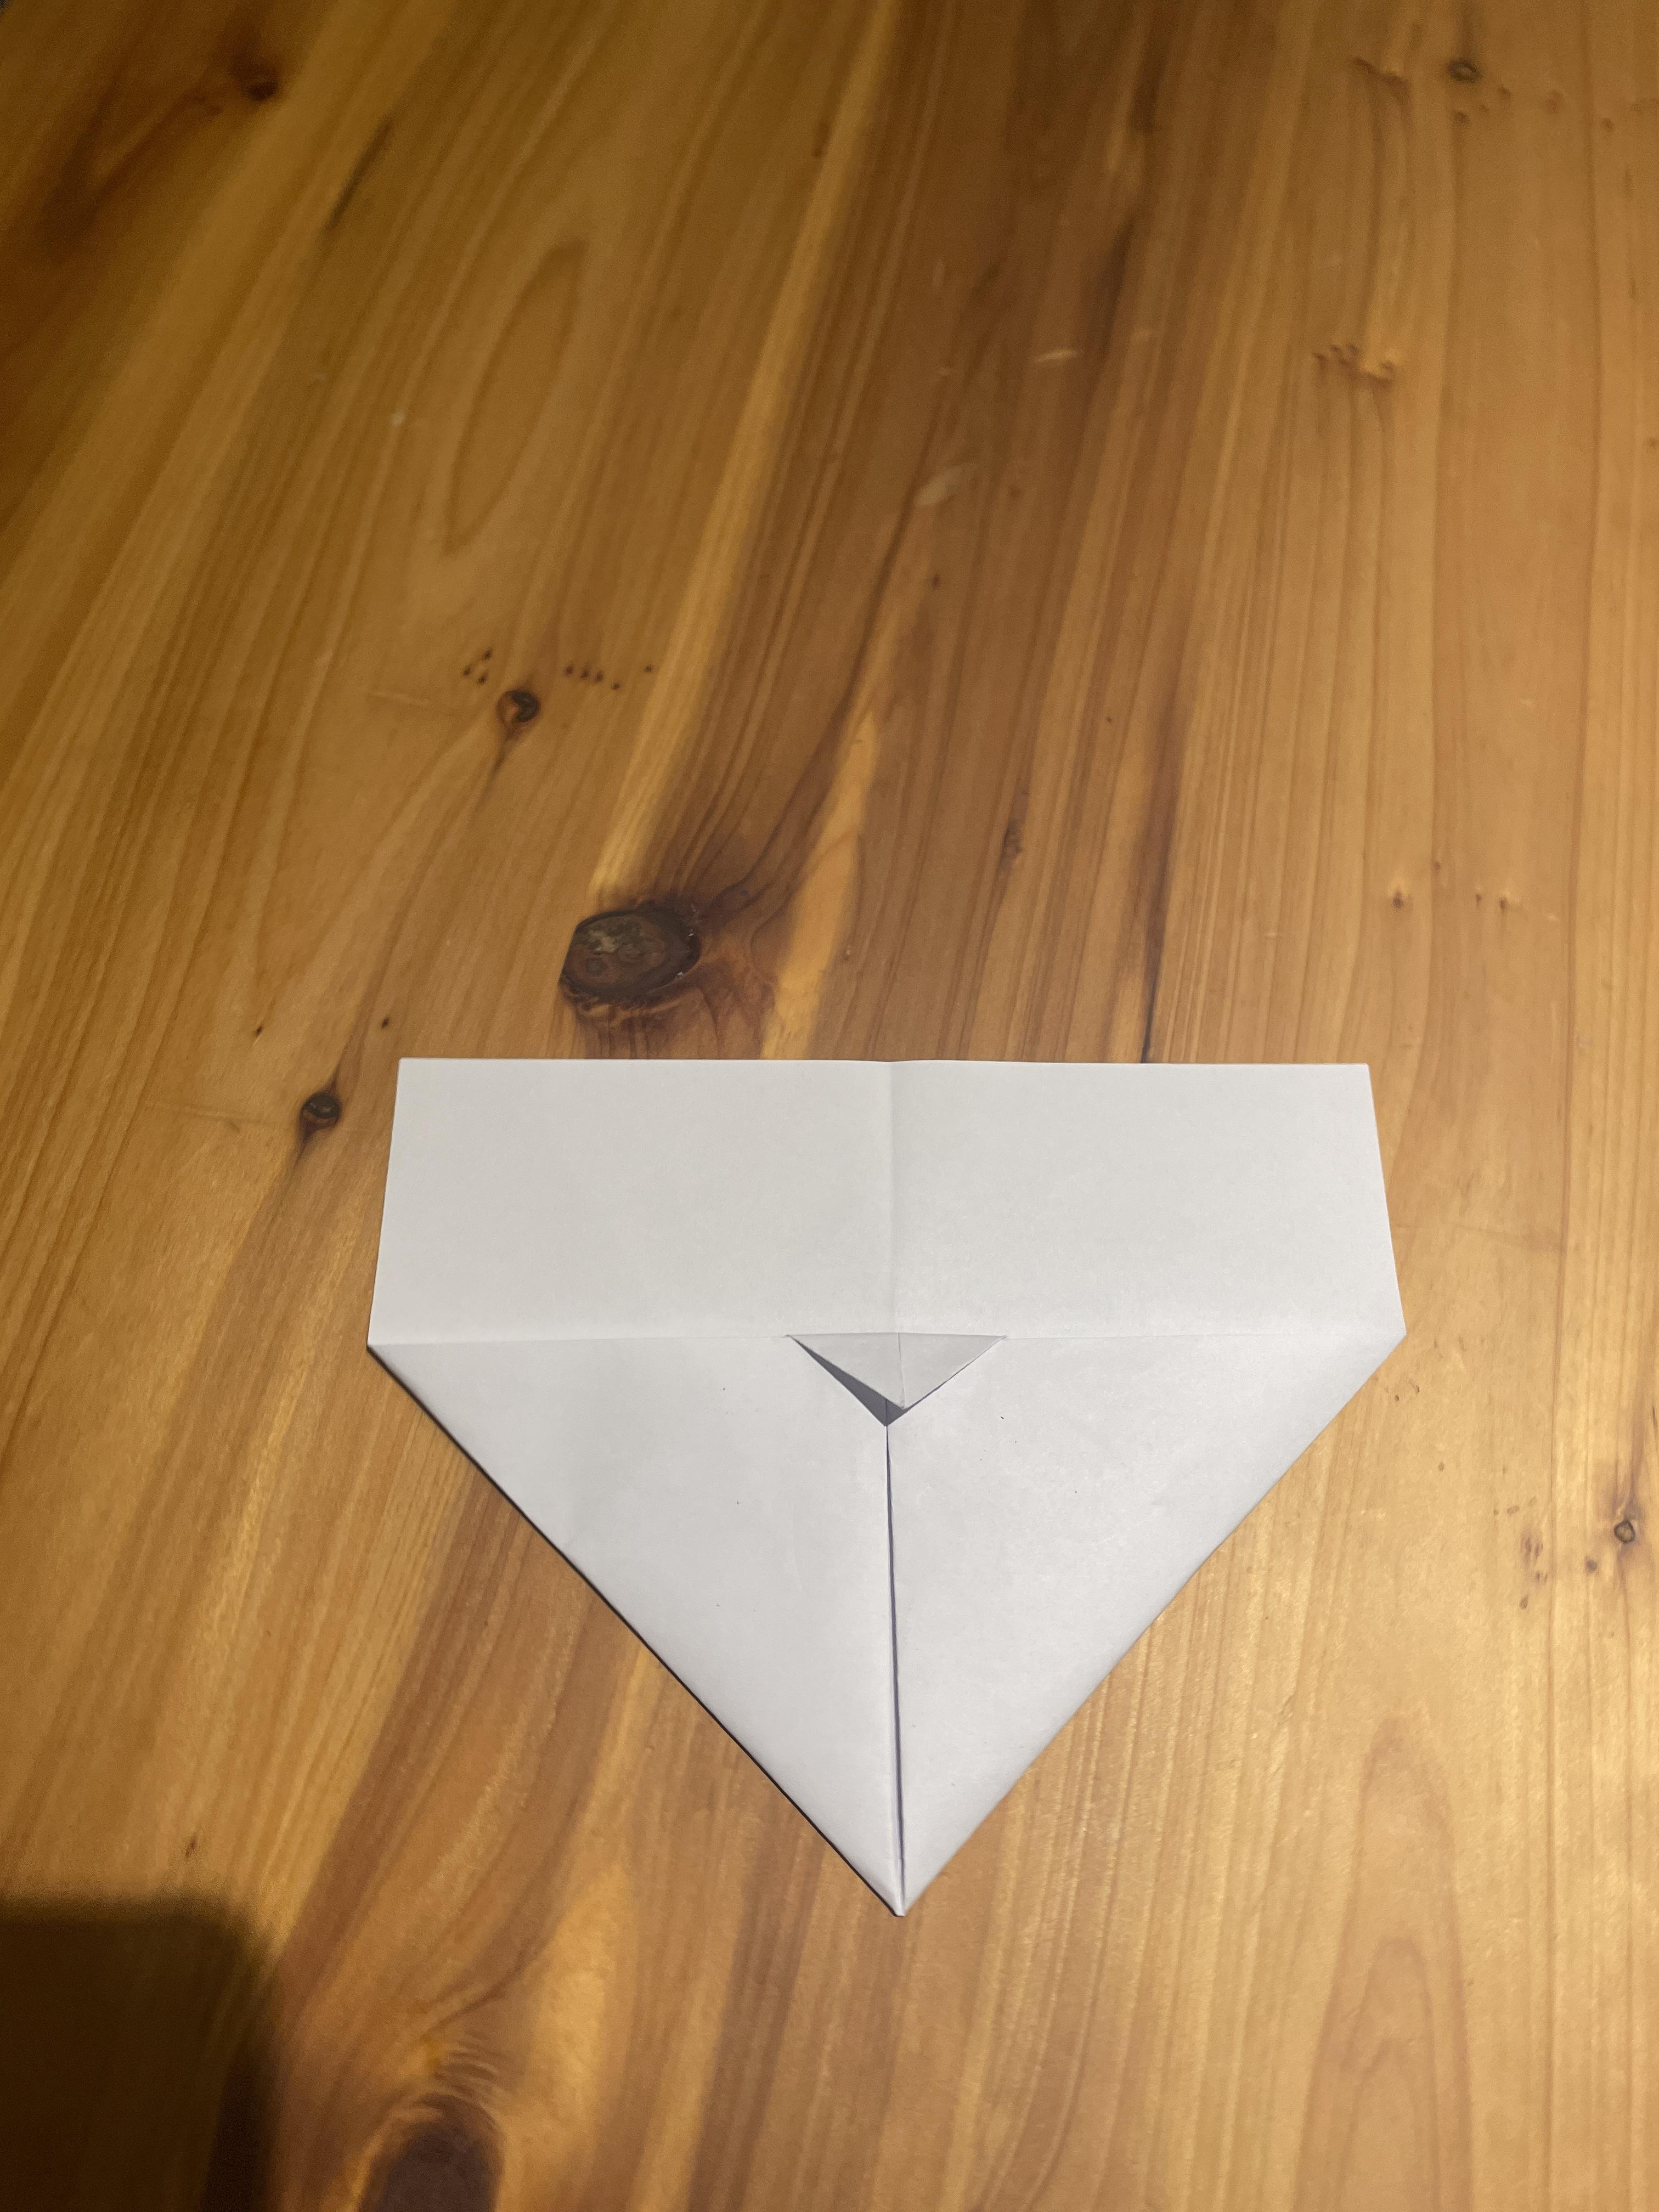shape_2: (319, 857, 1521, 1973)
